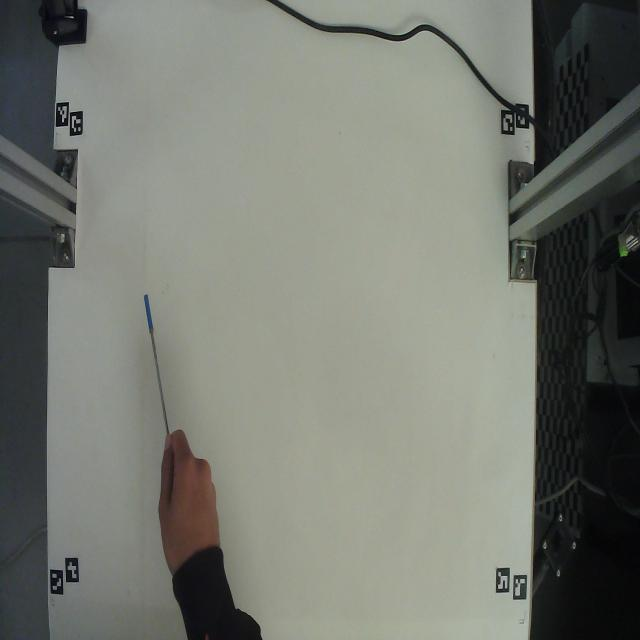NoPres: (142, 281, 178, 434)
